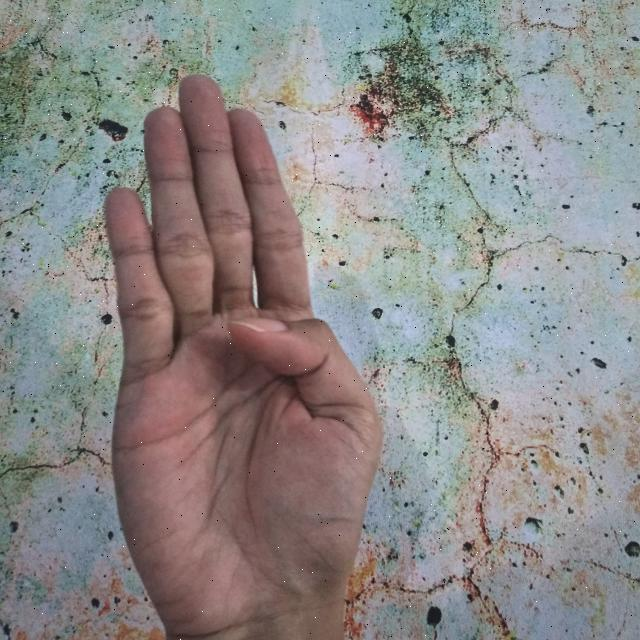B: (103, 69, 384, 640)
